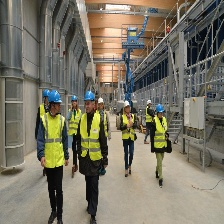helmet: (48, 87, 65, 109), (82, 91, 97, 104), (154, 101, 166, 114), (121, 99, 131, 112), (70, 96, 79, 106), (145, 98, 152, 108), (98, 97, 104, 108)
person: (35, 87, 71, 224), (74, 89, 110, 224), (149, 104, 173, 189), (119, 98, 139, 180), (66, 94, 84, 178), (144, 95, 155, 148)
vest: (41, 112, 67, 171), (79, 110, 105, 168), (151, 113, 167, 153), (119, 113, 136, 149), (69, 108, 82, 138), (145, 104, 152, 127)
